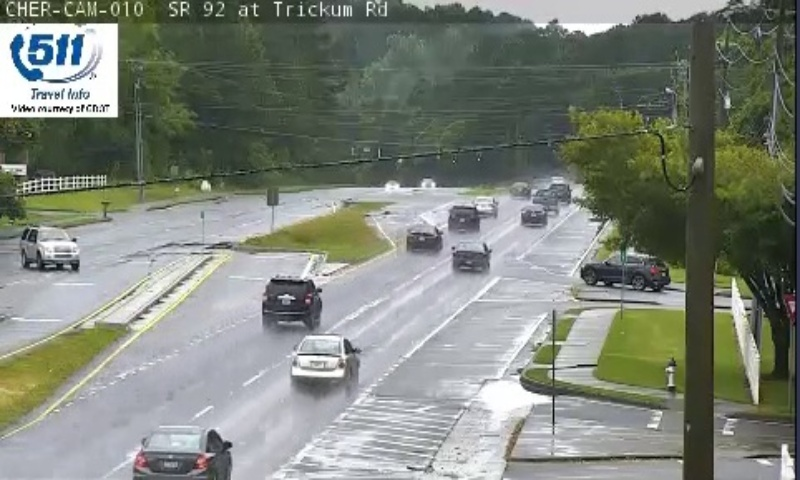car: (132, 427, 234, 480), (292, 333, 358, 384), (262, 276, 320, 321), (450, 241, 490, 269), (407, 224, 442, 250), (448, 205, 478, 230), (469, 196, 499, 216), (520, 206, 547, 226), (534, 189, 557, 212)
